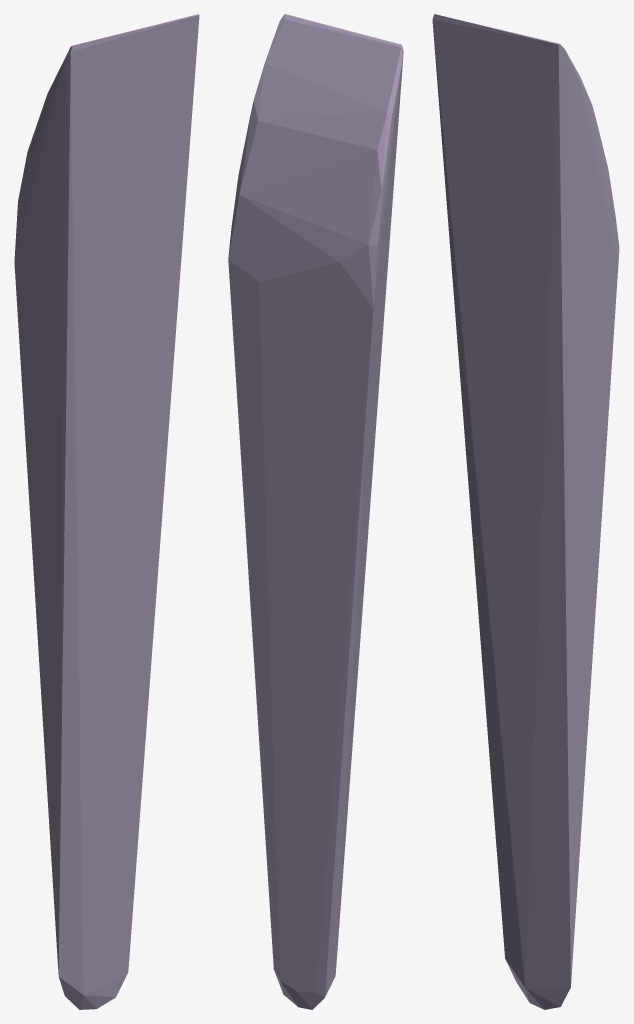
Rendered from kitchenware_fork_k01.glb.
3 renders of one model, left to right at view 1: azimuth 30°, elevation 25°; view 2: azimuth 150°, elevation 25°; view 3: azimuth 330°, elevation 25°, orthographic. The views are drawn at different scales.
Visible parts, largest first — view 1: geometry_0; view 2: geometry_0; view 3: geometry_0.
Part boxes in pixels (box(x1,y1,x2,y2)): geometry_0: box(14, 14, 199, 1009); geometry_0: box(228, 14, 403, 1009); geometry_0: box(432, 14, 619, 1009).
Size of the model in its own units: 0.0773 by 0.4797 by 0.04.
